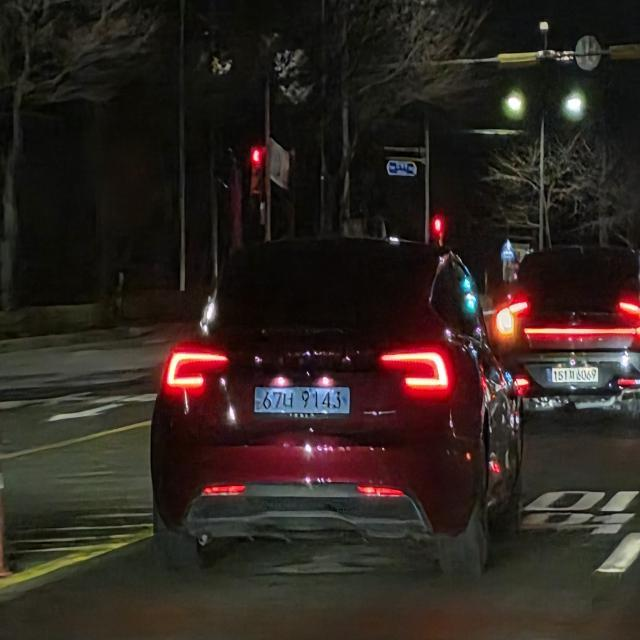car: (247, 375, 362, 427)
carev: (253, 384, 263, 420), (341, 386, 351, 416)
